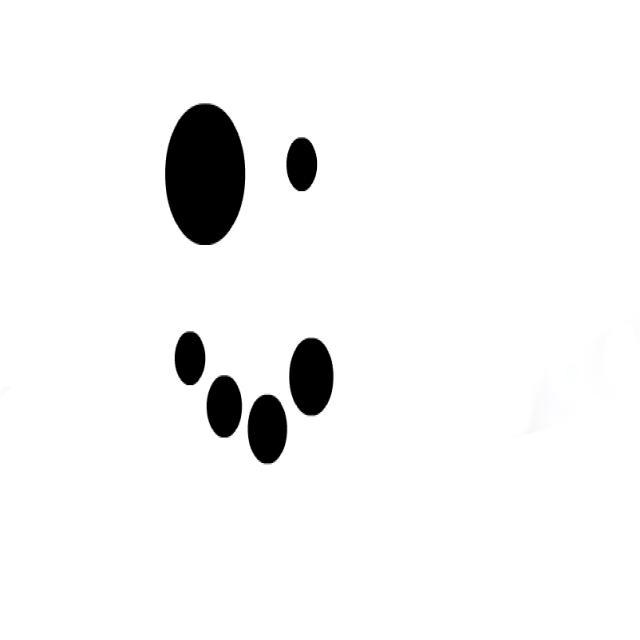Circle: (164, 98, 248, 250), (288, 332, 336, 418), (245, 390, 290, 466), (204, 370, 244, 440), (174, 326, 208, 388), (286, 132, 318, 196)
